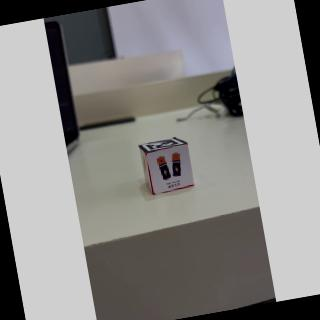Used_Battery: (147, 146, 194, 193)
